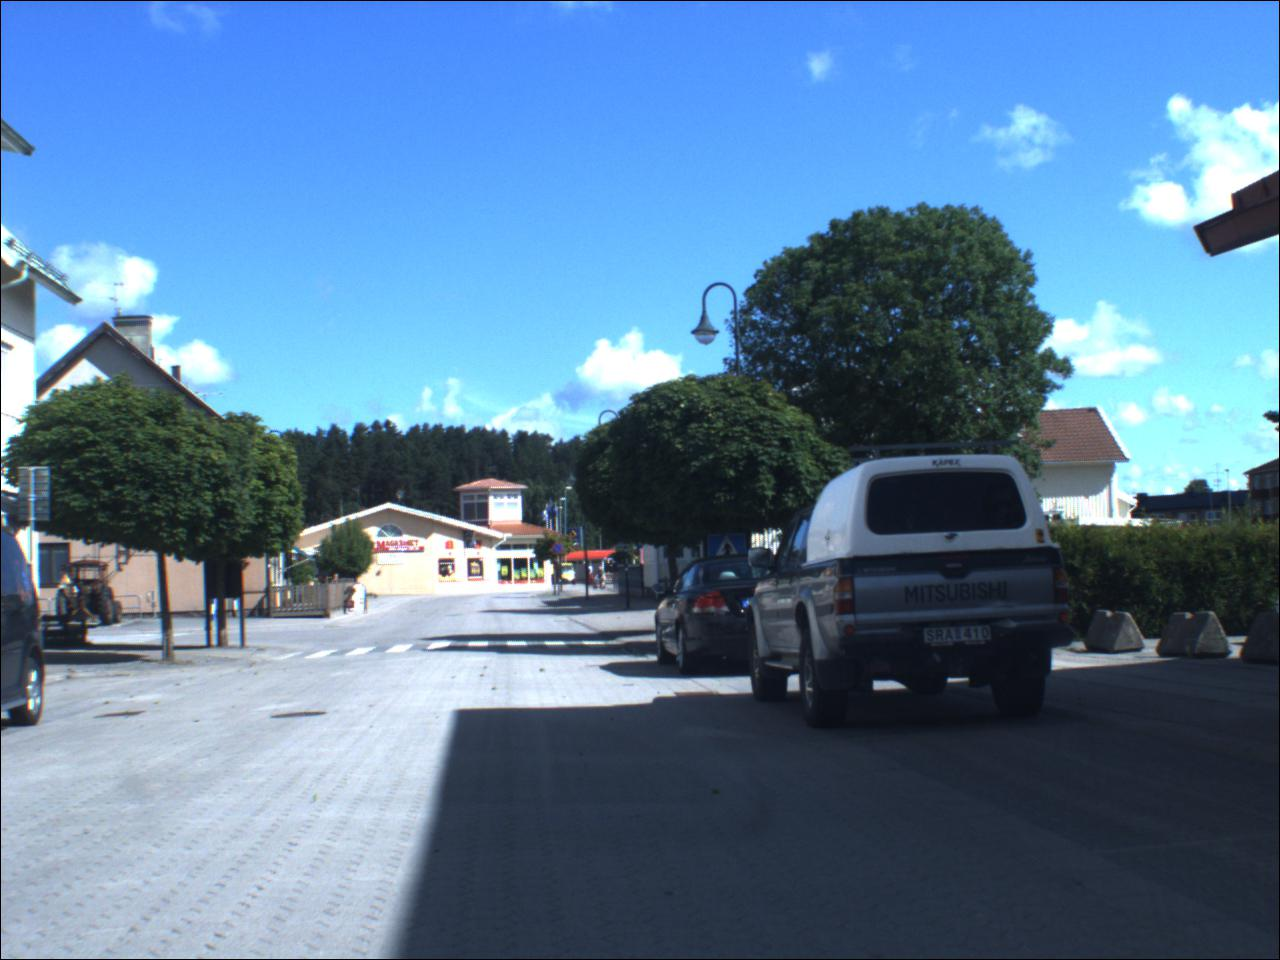NO_PARKING: (552, 542, 567, 557)
PEDESTRIAN_CROSSING: (708, 534, 753, 567)
